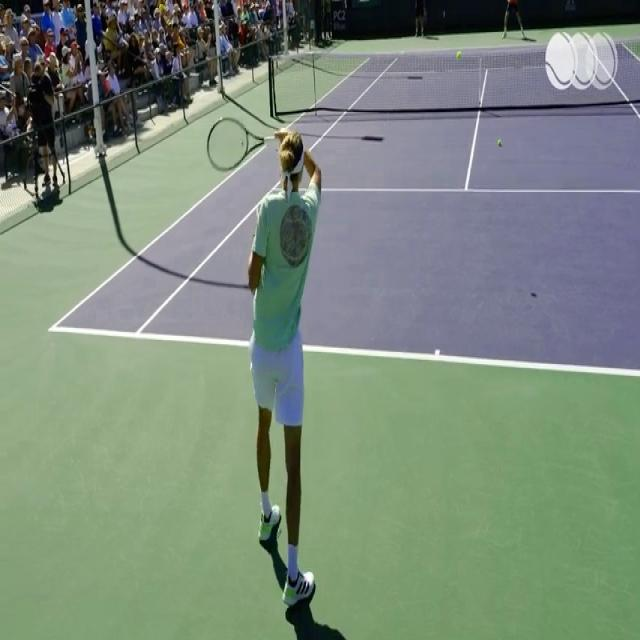forehand-finish: (207, 115, 323, 612)
